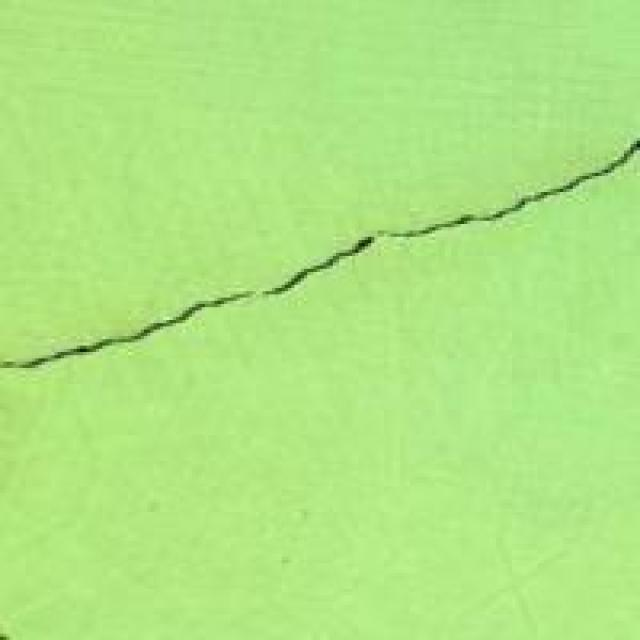crack: (0, 99, 637, 429)
